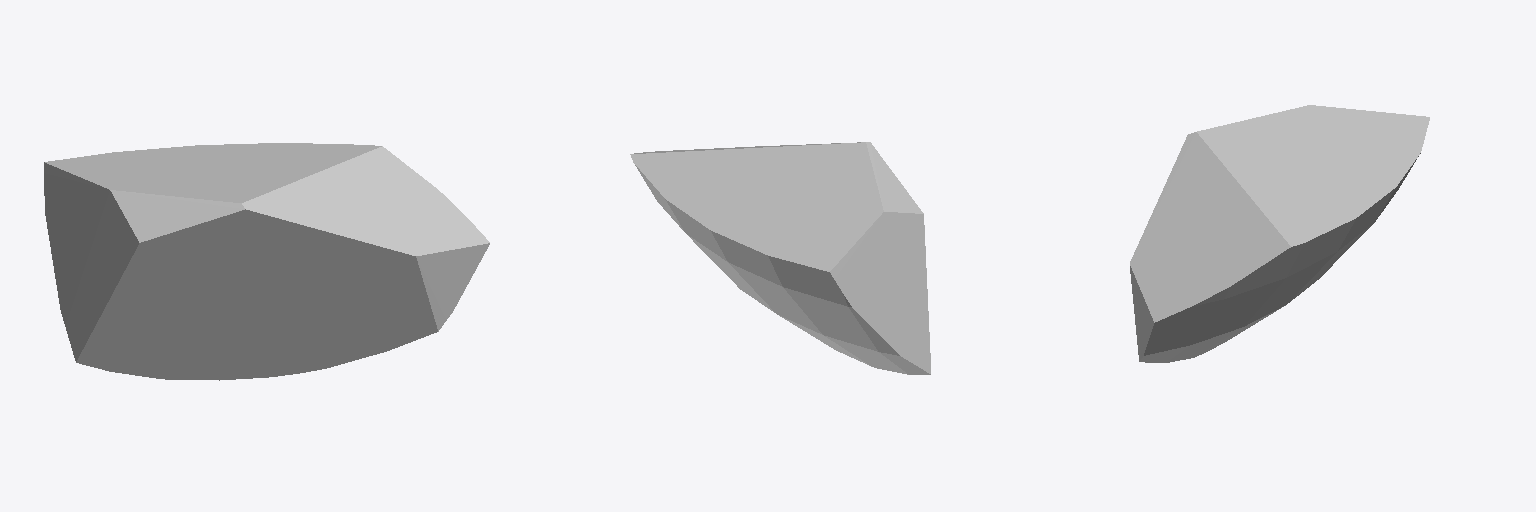
File: Sphere_Cell_Fracture51.obj
The picture shows the model from 3 angles: view 1: azimuth 30°, elevation 25°; view 2: azimuth 150°, elevation 25°; view 3: azimuth 270°, elevation 25°; orthographic projection.
Size of the model in its own units: 0.8058 by 0.4342 by 0.6113.